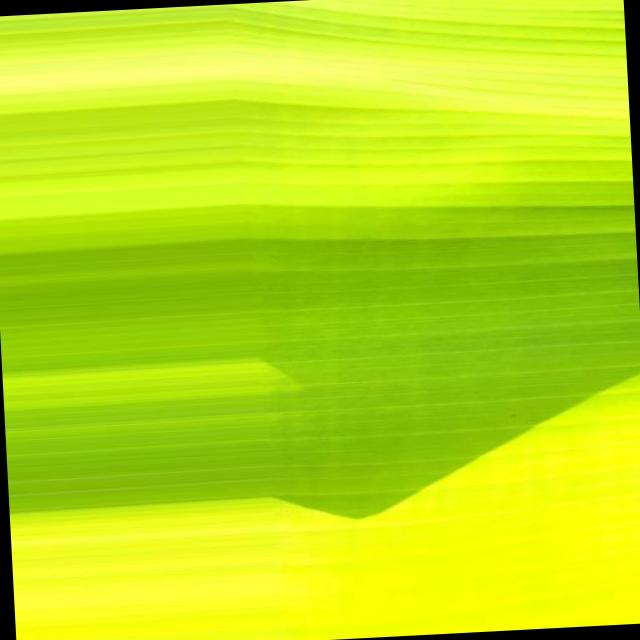Banana_Healthy: (96, 70, 479, 410)
